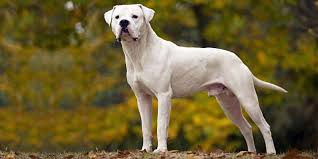dog: (94, 2, 293, 159)
